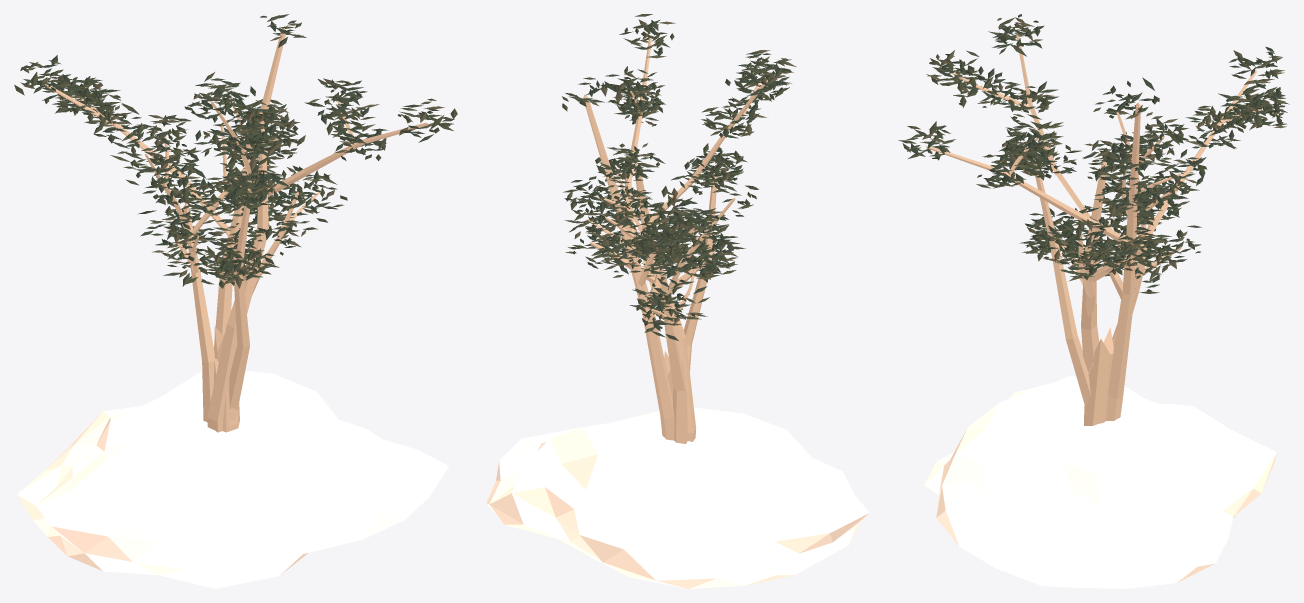
File: thuvien.glb
The picture shows the model from 3 angles, left to right: view 1: azimuth 30°, elevation 25°; view 2: azimuth 150°, elevation 25°; view 3: azimuth 270°, elevation 25°; orthographic projection. The views are drawn at different scales.
Parts seen in each view (by area): view 1: TV_DongGach_2, TV_Cay_1, TV_Cay_0, TV_Cay_2, TV_Cay_3; view 2: TV_DongGach_2, TV_Cay_1, TV_Cay_2, TV_Cay_0, TV_Cay_3; view 3: TV_DongGach_2, TV_Cay_1, TV_Cay_0, TV_Cay_2, TV_Cay_3, TV_GocCay_2.
Boxes of the visible parts, x1,y1,x2,y2 form: TV_DongGach_2: (17, 371, 448, 588); TV_Cay_1: (14, 14, 457, 349); TV_Cay_0: (184, 72, 347, 432); TV_Cay_2: (110, 80, 294, 421); TV_Cay_3: (203, 162, 282, 410); TV_DongGach_2: (486, 408, 869, 588); TV_Cay_1: (562, 14, 721, 440); TV_Cay_2: (563, 147, 758, 443); TV_Cay_0: (564, 50, 796, 441); TV_Cay_3: (677, 143, 747, 371); TV_DongGach_2: (924, 376, 1276, 588); TV_Cay_1: (898, 46, 1289, 420); TV_Cay_0: (926, 14, 1171, 372); TV_Cay_2: (1083, 85, 1207, 347); TV_Cay_3: (1002, 134, 1090, 408); TV_GocCay_2: (1084, 327, 1113, 425).
Bounding box in the file's own units: 9.77 × 11.4 × 8.69.
